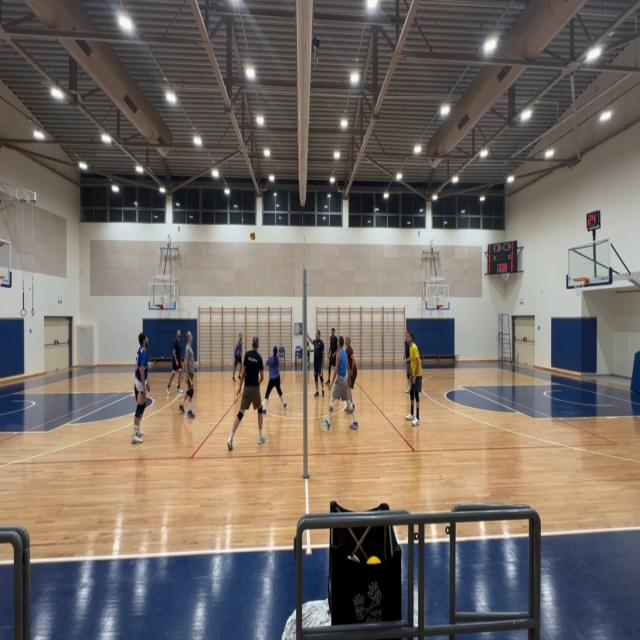volleyball: (250, 232, 256, 240)
